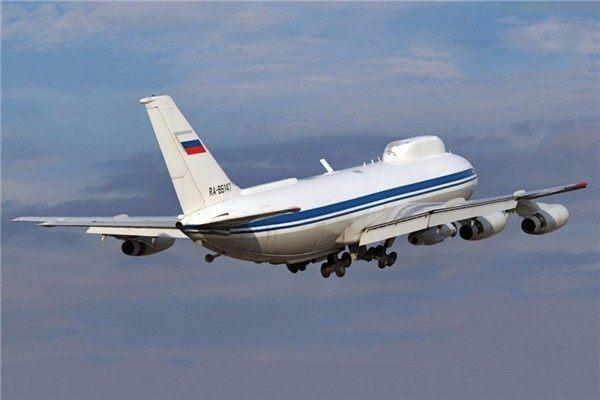airplane: (5, 94, 599, 273)
